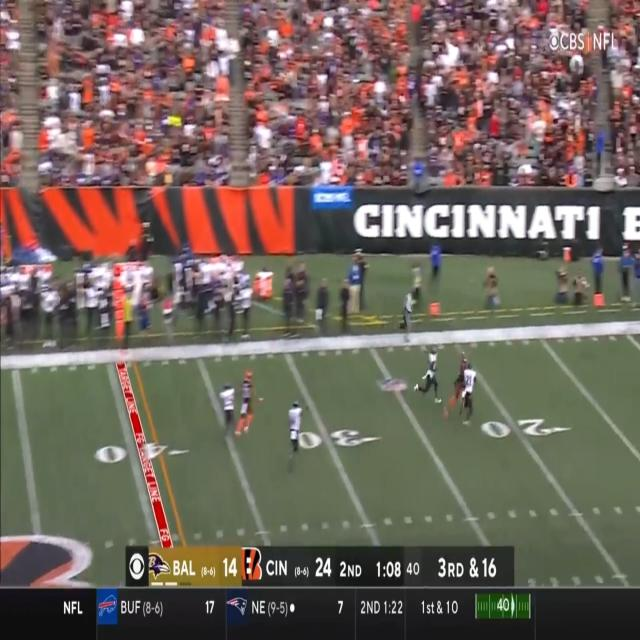Ball: (172, 29, 179, 38)
